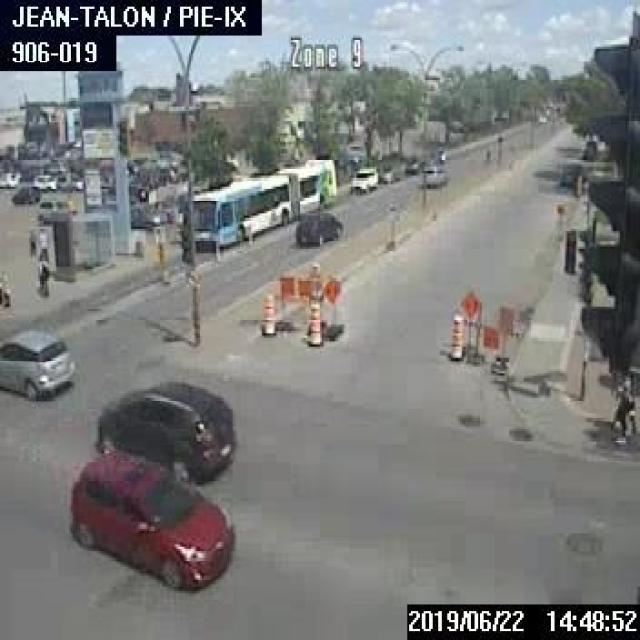bus: (193, 156, 335, 248)
construction: (254, 273, 346, 349), (444, 287, 511, 369)
pedestrian: (611, 381, 633, 438), (35, 255, 51, 294), (36, 226, 48, 259), (0, 275, 11, 309), (27, 228, 34, 258)
vehicle: (66, 448, 234, 586), (93, 378, 233, 481), (0, 326, 76, 400), (294, 210, 342, 243), (36, 199, 74, 222), (129, 204, 168, 226), (347, 166, 375, 191), (420, 164, 447, 186), (10, 184, 39, 203), (377, 160, 400, 181), (31, 172, 52, 188), (404, 156, 421, 172), (0, 171, 16, 186), (537, 114, 545, 122)
